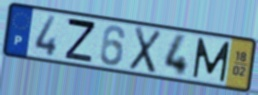4: (162, 32, 191, 79), (32, 13, 58, 58)
6: (99, 24, 127, 67)
M: (191, 36, 232, 84)
X: (127, 25, 163, 76)
Z: (63, 16, 97, 64)
